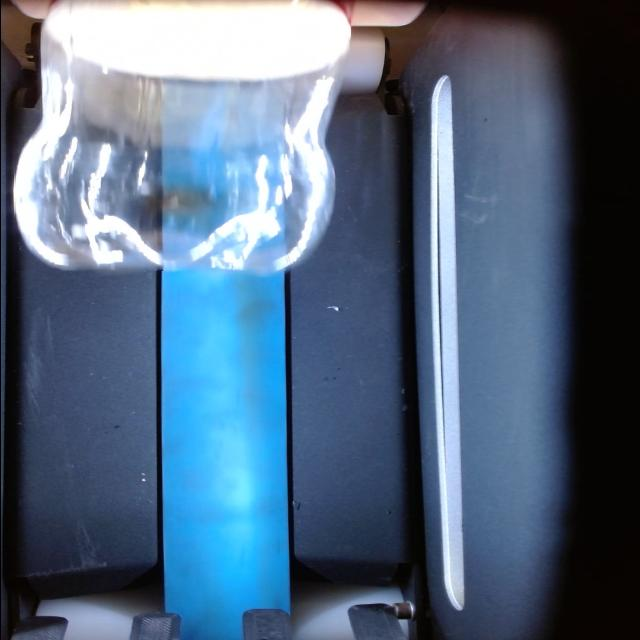bottom: (14, 0, 349, 271)
